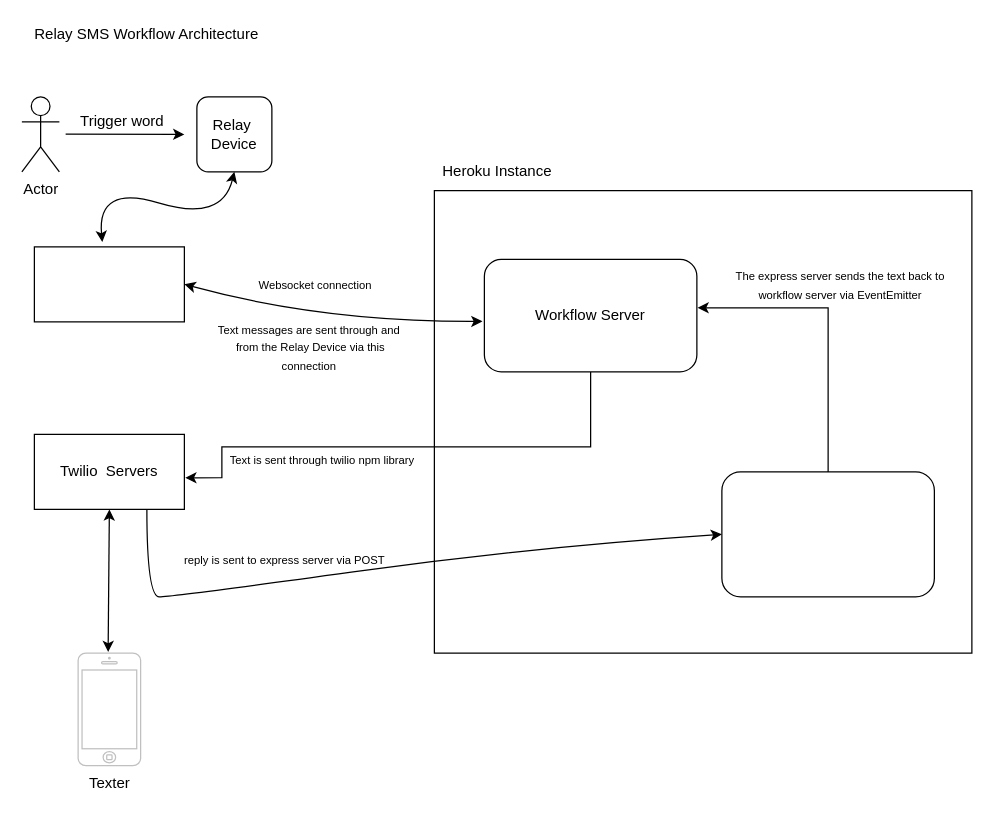
Image size: 994x813. Some labels were removed from this diagram. The shapes that lost their labels are listed below. From the top down, each one's centre as x and y in pixels, then its label:
At (108,284): "Relay Server".
At (827,534): "Express Server".
